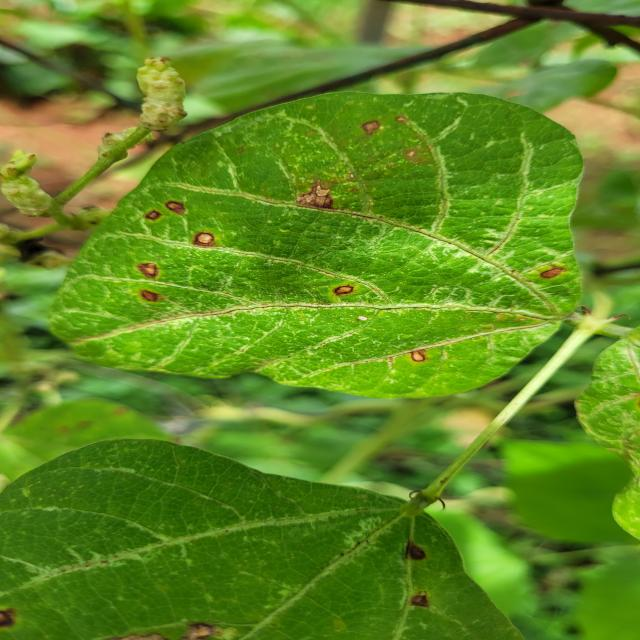Dolicos bean_cercospora leaf spot: (46, 84, 603, 400), (0, 438, 525, 639)
